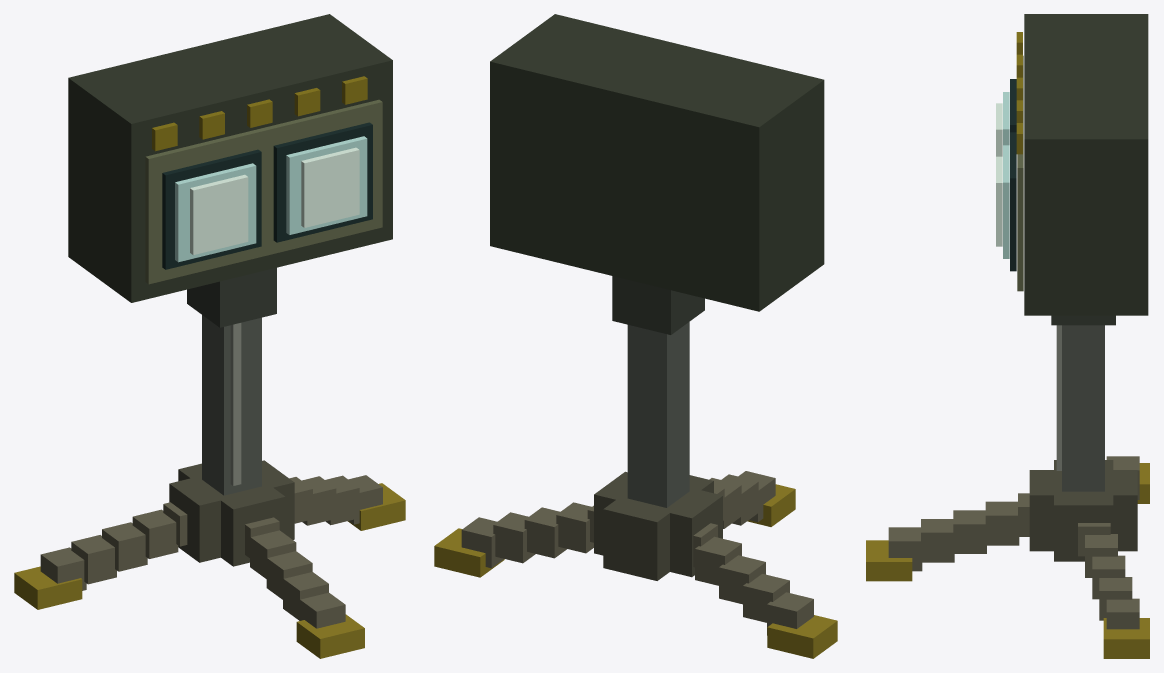
The model's file is CMU3DSmallFloodlight.glb.
3 views of the same model, side by side, from view 1: azimuth 30°, elevation 25°; view 2: azimuth 150°, elevation 25°; view 3: azimuth 270°, elevation 25° (orthographic). The views are drawn at different scales.
Parts seen in each view (by area): view 1: floodlight housing, tripod leg (×14), reflector surround, square mast, lamp core (×2), tripod center (×3), lamp dark gasket (×2), pale lamp glass (×2), yellow foot cap (×3), mast collar, upper hazard mark (×5), mast highlight; view 2: floodlight housing, tripod leg (×11), square mast, tripod center (×3), yellow foot cap (×3), mast collar; view 3: floodlight housing, tripod leg (×10), tripod center (×2), square mast, yellow foot cap (×3), reflector surround, lamp dark gasket, mast highlight, pale lamp glass, mast collar, lamp core.
Boxes of the visible parts, left/top/right/bottom form: floodlight housing: left=68, top=14, right=392, bottom=302; tripod leg (×14): left=40, top=475, right=382, bottom=628; reflector surround: left=145, top=99, right=382, bottom=284; square mast: left=202, top=315, right=261, bottom=495; lamp core (×2): left=190, top=147, right=359, bottom=254; tripod center (×3): left=169, top=460, right=294, bottom=566; lamp dark gasket (×2): left=162, top=122, right=372, bottom=269; pale lamp glass (×2): left=175, top=136, right=367, bottom=262; yellow foot cap (×3): left=14, top=483, right=405, bottom=658; mast collar: left=187, top=267, right=276, bottom=327; upper hazard mark (×5): left=152, top=76, right=367, bottom=151; mast highlight: left=230, top=323, right=241, bottom=485; floodlight housing: left=490, top=14, right=824, bottom=311; tripod leg (×11): left=461, top=471, right=813, bottom=635; square mast: left=627, top=322, right=689, bottom=507; tripod center (×3): left=594, top=471, right=722, bottom=580; yellow foot cap (×3): left=434, top=484, right=837, bottom=658; mast collar: left=612, top=276, right=704, bottom=334; floodlight housing: left=1024, top=14, right=1148, bottom=315; tripod leg (×10): left=888, top=493, right=1139, bottom=629; tripod center (×2): left=1029, top=470, right=1137, bottom=561; square mast: left=1062, top=325, right=1104, bottom=491; yellow foot cap (×3): left=866, top=463, right=1149, bottom=658; reflector surround: left=1017, top=55, right=1023, bottom=291; lamp dark gasket: left=1010, top=132, right=1016, bottom=271; mast highlight: left=1056, top=325, right=1061, bottom=470; pale lamp glass: left=1003, top=145, right=1009, bottom=258; mast collar: left=1051, top=315, right=1115, bottom=325; lamp core: left=996, top=156, right=1002, bottom=246.
Size of the model in its own units: 0.774 by 1.01 by 0.526.
